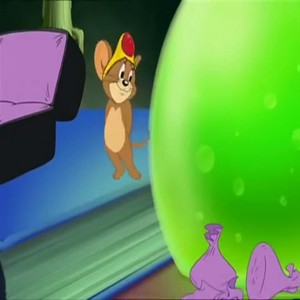Jerry: (88, 31, 154, 179)
